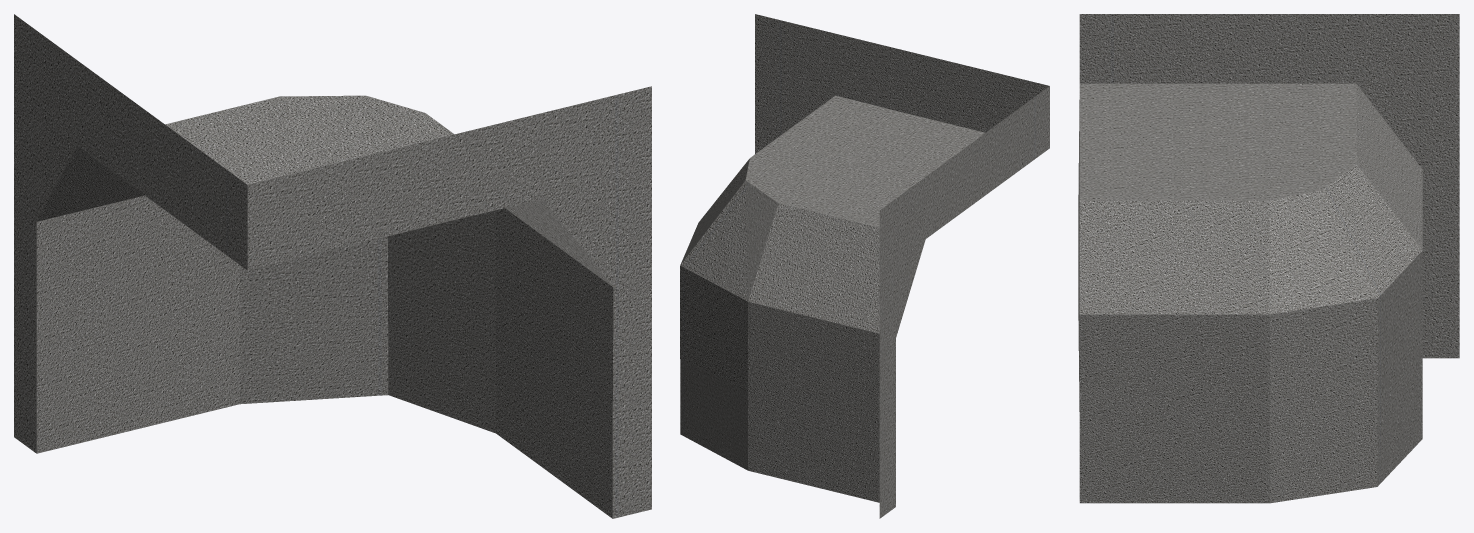
The model's file is Building_Overhang.dae.
3 views of the same model, side by side, from view 1: azimuth 30°, elevation 25°; view 2: azimuth 150°, elevation 25°; view 3: azimuth 270°, elevation 25° (orthographic). The views are drawn at different scales.
Parts seen in each view (by area): view 1: Building_Overhang; view 2: Building_Overhang; view 3: Building_Overhang.
Part boxes in pixels (x1,y1,x2,y2): Building_Overhang: (14,14,651,518); Building_Overhang: (680,14,1049,518); Building_Overhang: (1078,14,1459,503).
Size of the model in its own units: 45.04 by 45.04 by 45.17.
